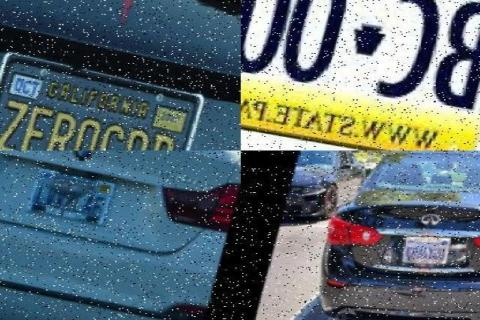LicensePlate: (240, 0, 480, 142), (0, 44, 210, 150), (23, 164, 115, 222), (398, 234, 446, 261)
